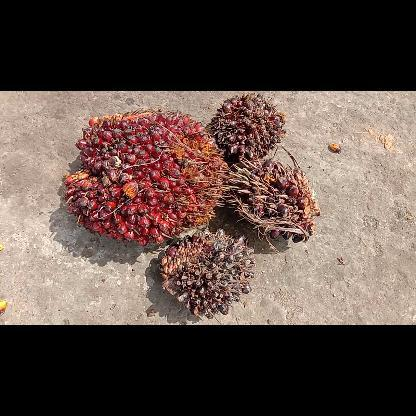TBS abnormal: (156, 224, 256, 318), (223, 154, 323, 244), (206, 90, 288, 162)
TBS masak: (60, 106, 226, 248)
